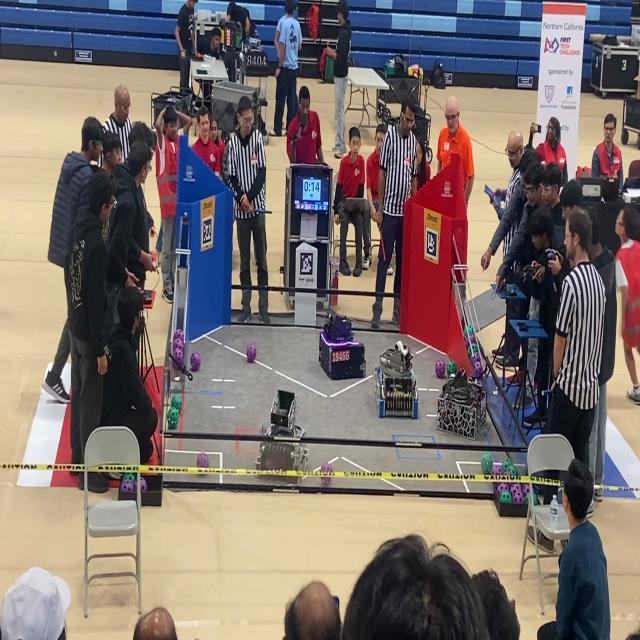artifact_green: (167, 408, 179, 430), (172, 347, 183, 369), (481, 453, 492, 474), (472, 362, 484, 381), (120, 479, 135, 493), (171, 394, 182, 411), (512, 490, 524, 504), (168, 407, 180, 421), (121, 473, 136, 484), (447, 360, 457, 376), (500, 490, 512, 503), (496, 482, 508, 495), (509, 463, 519, 478), (468, 344, 478, 359), (470, 353, 481, 366), (321, 463, 333, 474), (509, 483, 520, 495), (502, 459, 512, 472), (464, 325, 474, 338), (492, 463, 502, 475), (173, 338, 183, 350), (140, 476, 147, 493), (511, 464, 519, 478), (174, 329, 184, 340), (467, 333, 477, 343), (168, 420, 177, 430), (470, 343, 478, 354), (506, 467, 513, 479), (467, 325, 475, 335), (533, 493, 539, 505), (465, 336, 470, 348), (463, 326, 468, 338), (534, 494, 539, 505), (468, 347, 472, 360), (449, 374, 456, 380)
artifact_purple: (264, 458, 280, 471), (246, 343, 256, 363), (435, 360, 446, 378), (120, 479, 135, 492), (190, 352, 200, 371), (173, 347, 183, 366), (197, 453, 209, 468), (473, 362, 483, 379), (512, 491, 525, 504), (172, 341, 184, 353), (500, 491, 512, 503), (496, 483, 508, 494), (502, 458, 511, 472), (510, 483, 521, 494), (492, 463, 502, 475), (173, 338, 183, 350), (471, 353, 481, 365), (320, 463, 332, 473), (140, 477, 147, 493), (174, 329, 184, 340), (504, 469, 514, 479), (546, 249, 555, 260), (521, 484, 529, 495), (468, 334, 476, 343), (465, 336, 470, 348)
